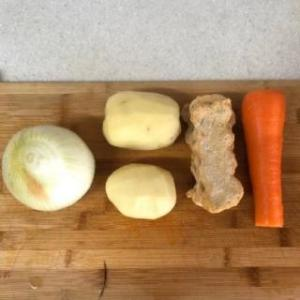carrot: (242, 90, 286, 228)
onion: (1, 124, 97, 212)
potato: (105, 92, 182, 148), (107, 161, 177, 221)
